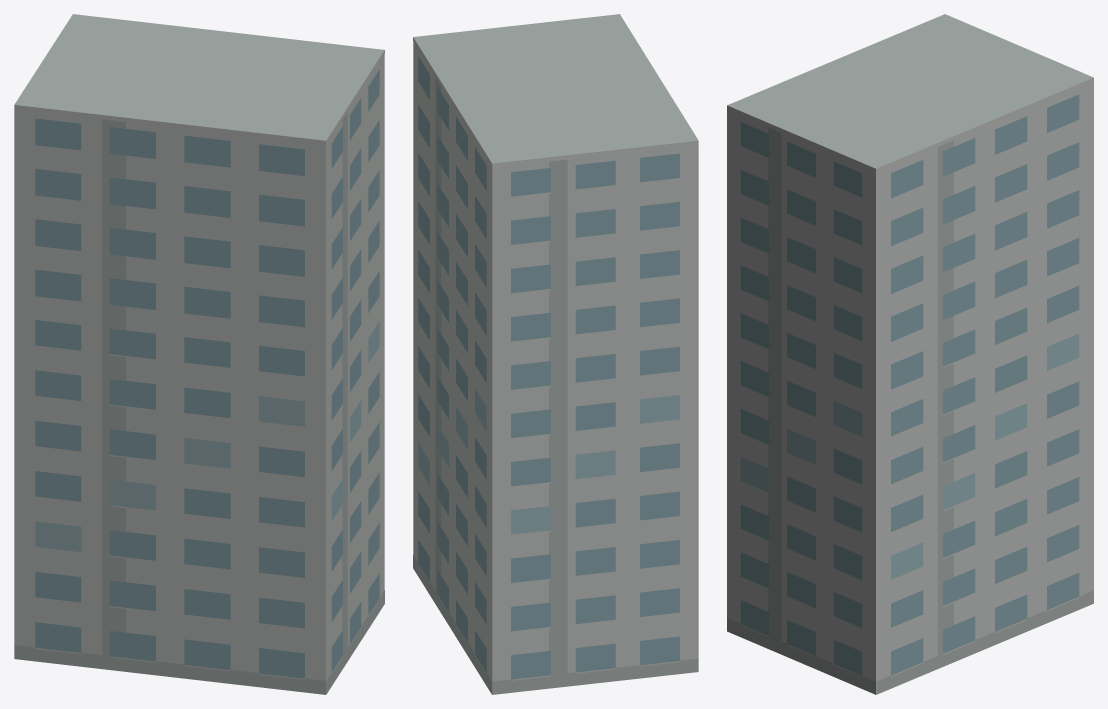
File: residential-7943d45b-ef69-4f0f-9dc1-0fc4486e5adc.glb
The picture shows the model from 3 angles, left to right: view 1: azimuth 30°, elevation 25°; view 2: azimuth 150°, elevation 25°; view 3: azimuth 270°, elevation 25°; orthographic projection. The views are drawn at different scales.
Parts seen in each view (by area): view 1: residential-7943d45b-ef69-4f0f-9dc1-0fc4486e5adc.tmp; view 2: residential-7943d45b-ef69-4f0f-9dc1-0fc4486e5adc.tmp; view 3: residential-7943d45b-ef69-4f0f-9dc1-0fc4486e5adc.tmp.
Part boxes in pixels (bbox=[...]): residential-7943d45b-ef69-4f0f-9dc1-0fc4486e5adc.tmp: bbox=[14, 14, 384, 694]; residential-7943d45b-ef69-4f0f-9dc1-0fc4486e5adc.tmp: bbox=[413, 14, 698, 694]; residential-7943d45b-ef69-4f0f-9dc1-0fc4486e5adc.tmp: bbox=[727, 14, 1093, 694].
Size of the model in its own units: 18.94 by 30 by 18.97.
